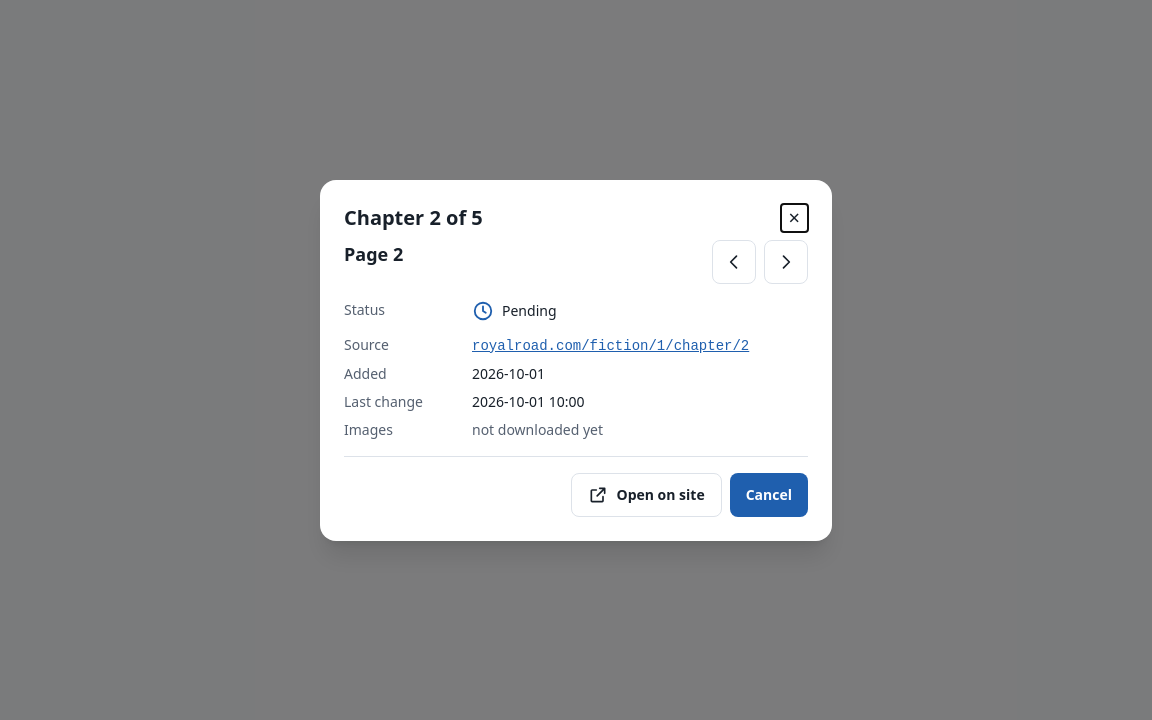
Test case: ChapterDetails › primary action › Cancel on a pending chapter › dismissing sends nothing
Click the button "Cancel" at (769, 494), box [730,472,808,516]
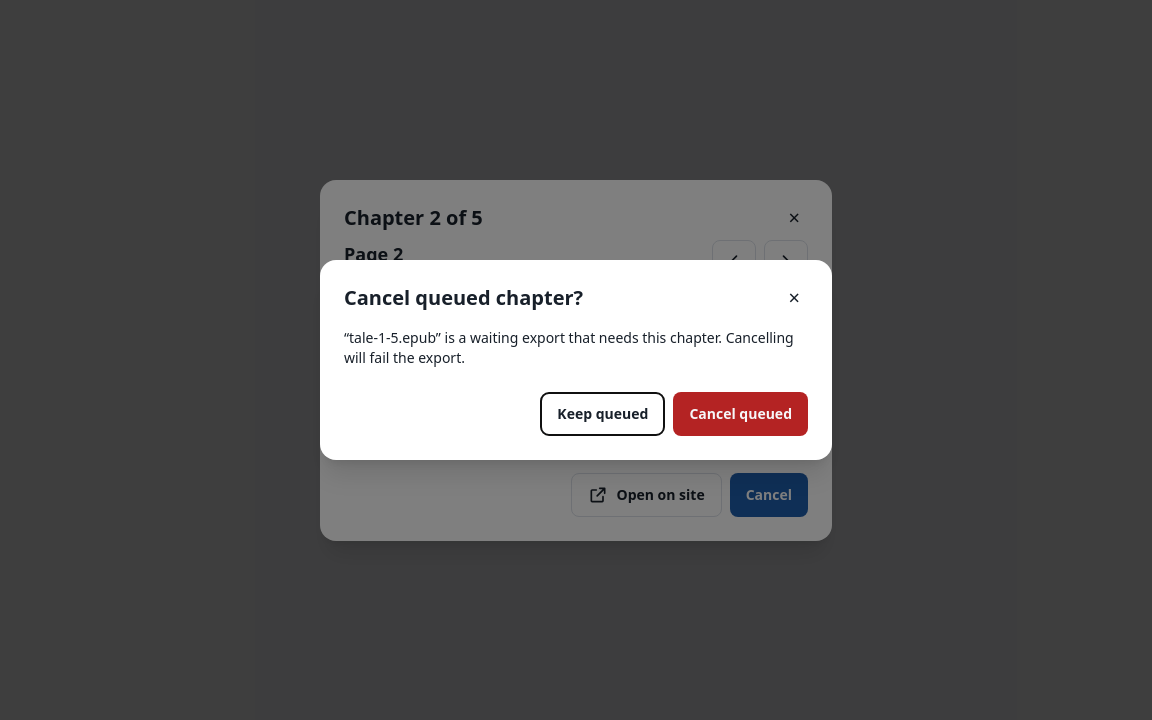
Click the button "Keep queued" at (603, 414), box [540,392,665,436]
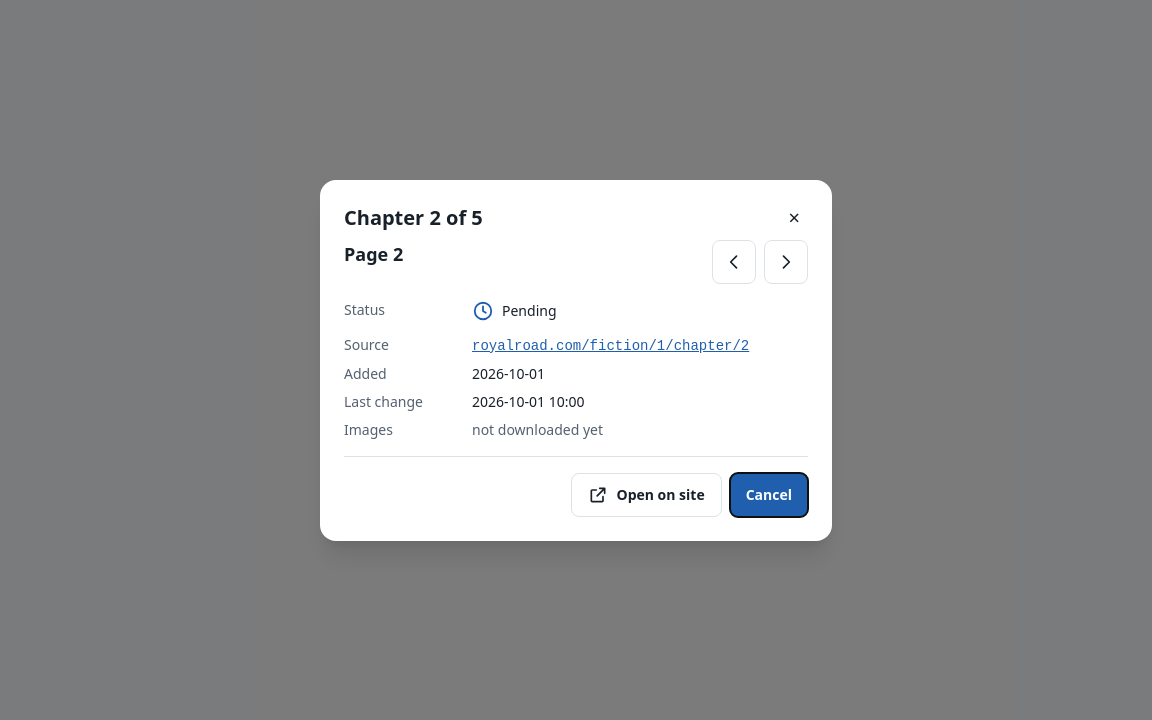
Expected: the button "Keep queued" is gone
